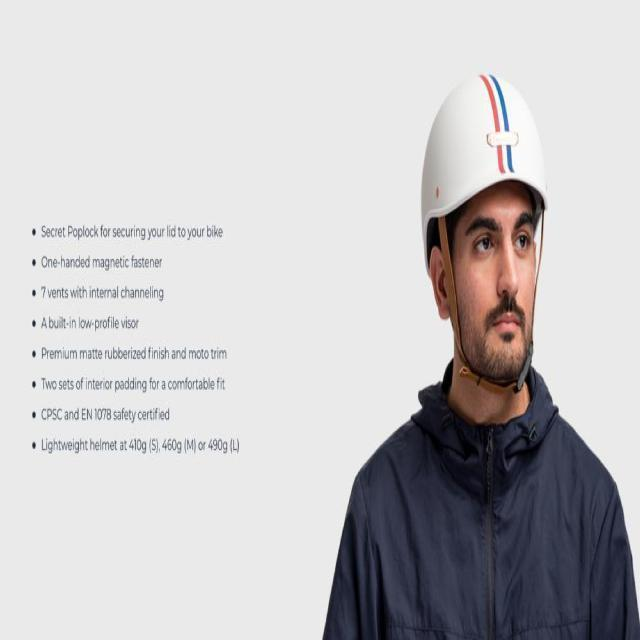helmet: (418, 72, 552, 394)
